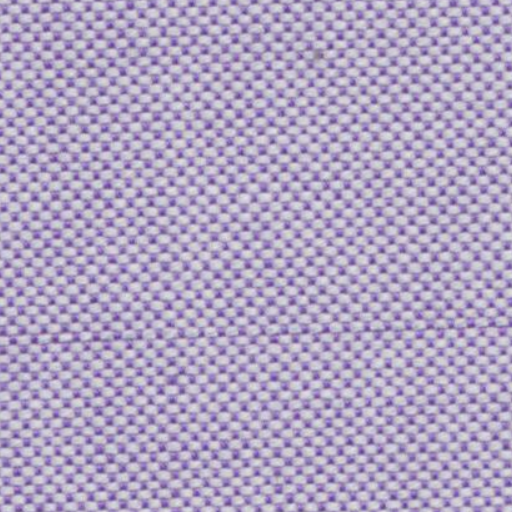TuoSha: (8, 300, 500, 370)
